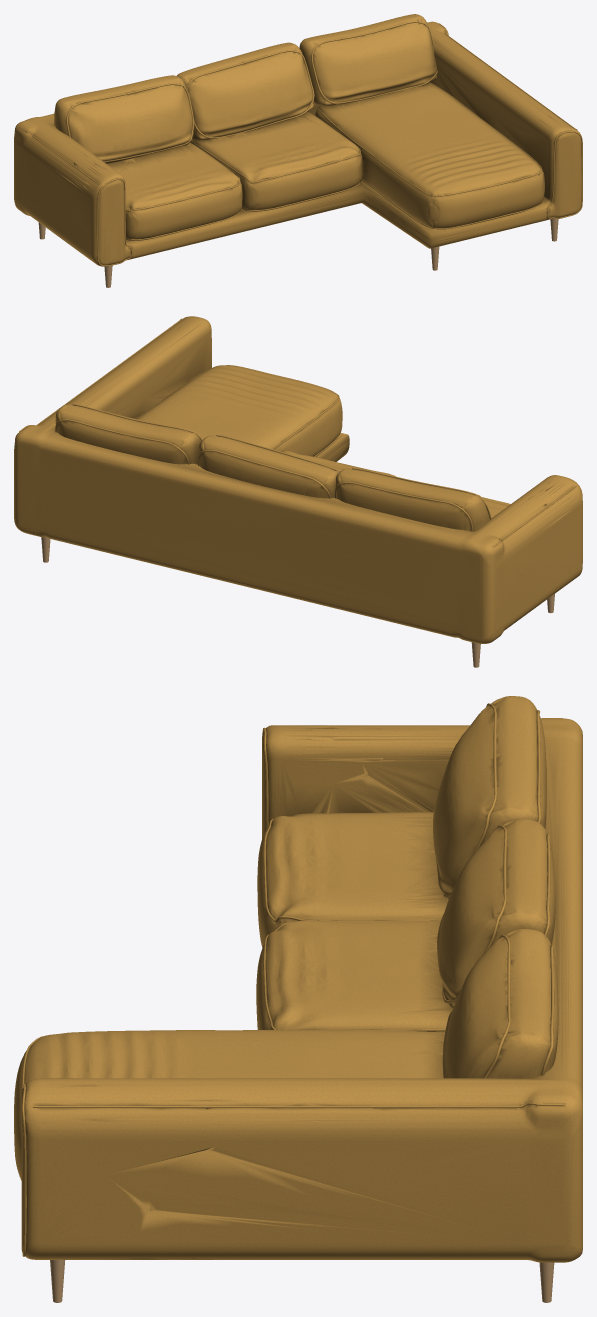
The model's file is pana-mostaza.gltf.
3 renders of one model, top to bottom at view 1: azimuth 30°, elevation 25°; view 2: azimuth 150°, elevation 25°; view 3: azimuth 270°, elevation 25°, orthographic. The views are drawn at different scales.
Visible parts, largest first — view 1: tela_ar, madera_ar; view 2: tela_ar, madera_ar; view 3: tela_ar, madera_ar.
Boxes of the visible parts, x1=… form: tela_ar: x1=14, y1=14, x2=582, y2=266; madera_ar: x1=38, y1=218, x2=558, y2=287; tela_ar: x1=14, y1=316, x2=582, y2=643; madera_ar: x1=41, y1=537, x2=554, y2=667; tela_ar: x1=14, y1=696, x2=582, y2=1262; madera_ar: x1=50, y1=1260, x2=554, y2=1302.
Bounding box in the file's own units: 2.6 × 0.8227 × 1.6.
2 materials, 2 textured.
